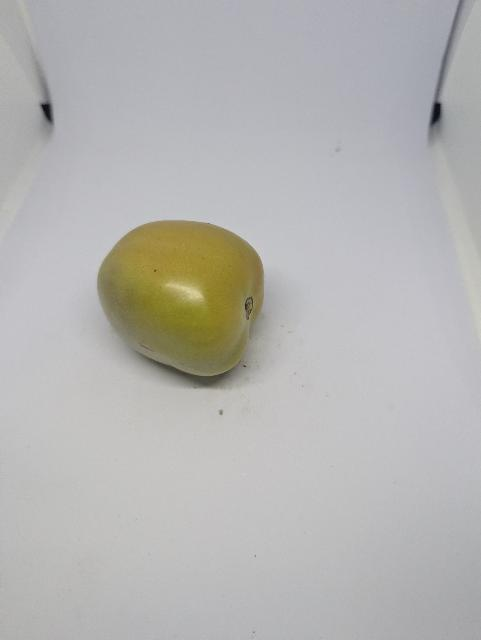breaker: (92, 219, 267, 381)
